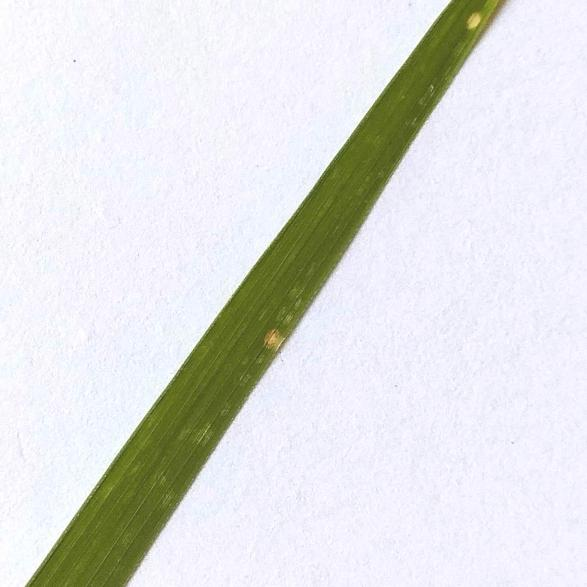Leaf_smut: (254, 310, 295, 356), (461, 5, 485, 32)
